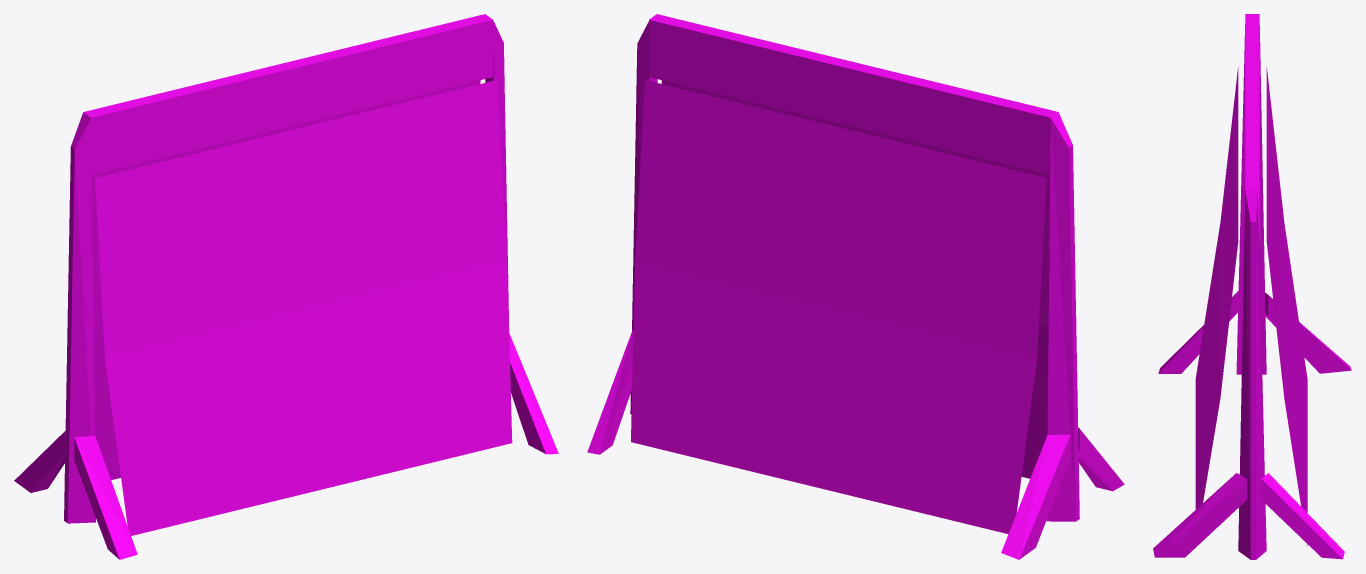
File: obstical_net.obj
3 views of the same model, side by side, from view 1: azimuth 30°, elevation 25°; view 2: azimuth 150°, elevation 25°; view 3: azimuth 270°, elevation 25° (orthographic). The views are drawn at different scales.
Parts seen in each view (by area): view 1: obstical_net_back; view 2: obstical_net_back; view 3: obstical_net_back.
Part boxes in pixels (x1,y1,x2,y2): obstical_net_back: (14,14,558,559); obstical_net_back: (587,14,1124,559); obstical_net_back: (1153,14,1351,559).
Size of the model in its own units: 2.6 by 2.25 by 1.12.
